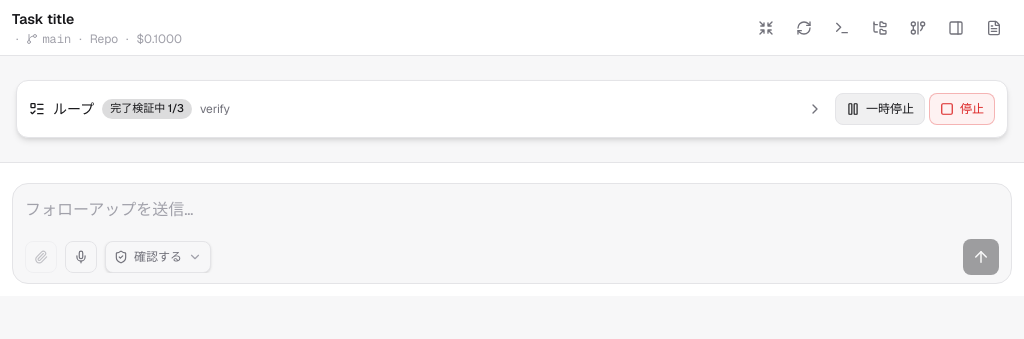
TaskView › does not manually send when pausing a verifying Goal loop fails
Step 1. Type "manual follow-up" into the dropdown labelled "フォローアップを送信" → (512, 210), box [25, 192, 999, 228]
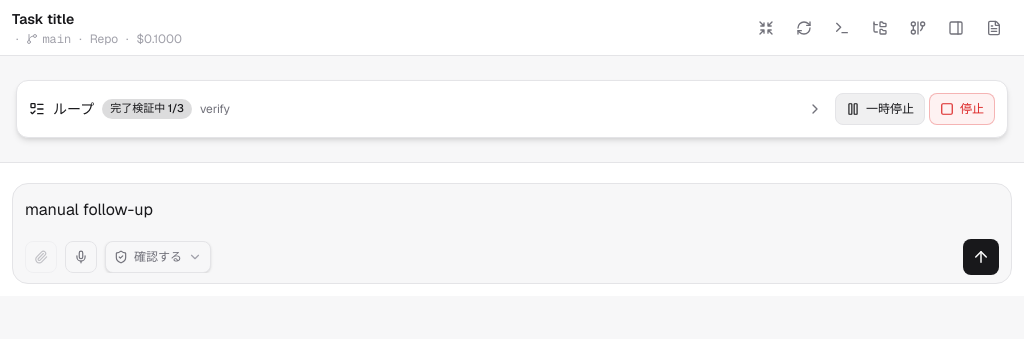
Step 2. Click the button named "送信" → (981, 257), box [963, 239, 999, 275]
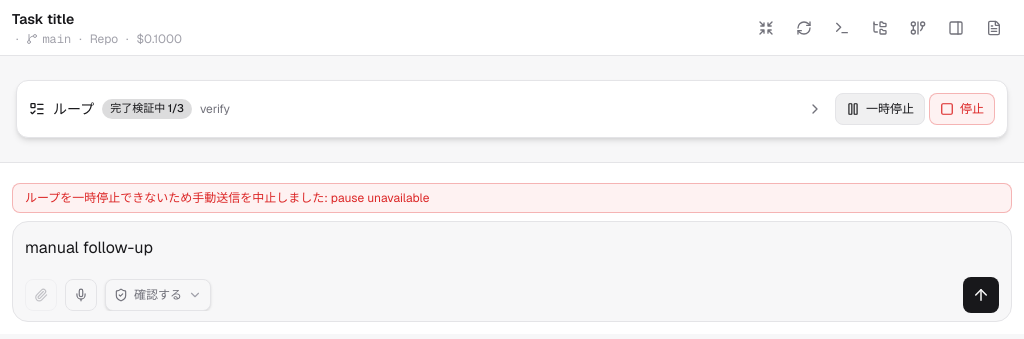
expect the text "ループを一時停止できないため手動送信を中止しました: pause unavailable" is shown: met, box [12, 183, 1012, 213]
